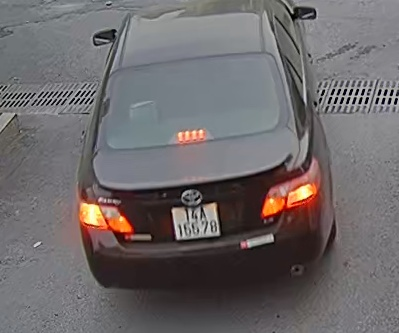vehicle plate: (168, 202, 222, 242)
